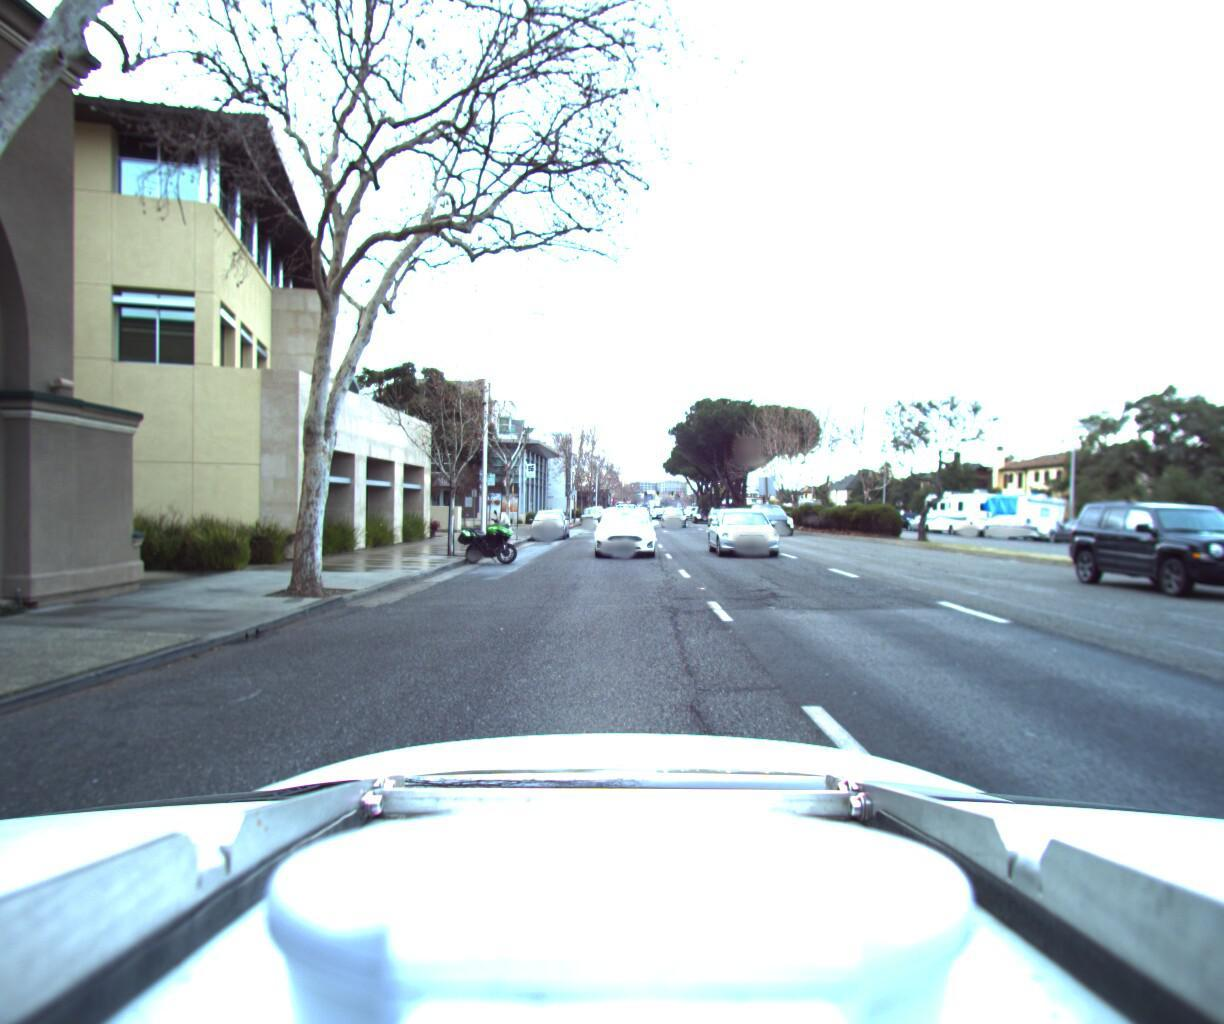car: (1074, 490, 1224, 604), (710, 496, 796, 559), (593, 497, 657, 553), (745, 494, 801, 530), (1180, 513, 1224, 553), (529, 501, 572, 536), (608, 494, 640, 521), (659, 498, 689, 521), (888, 502, 921, 522), (688, 496, 711, 517), (579, 497, 602, 517)
motorcycle: (451, 501, 528, 562)
other_vehicle: (977, 482, 1072, 536), (918, 478, 1009, 531)
